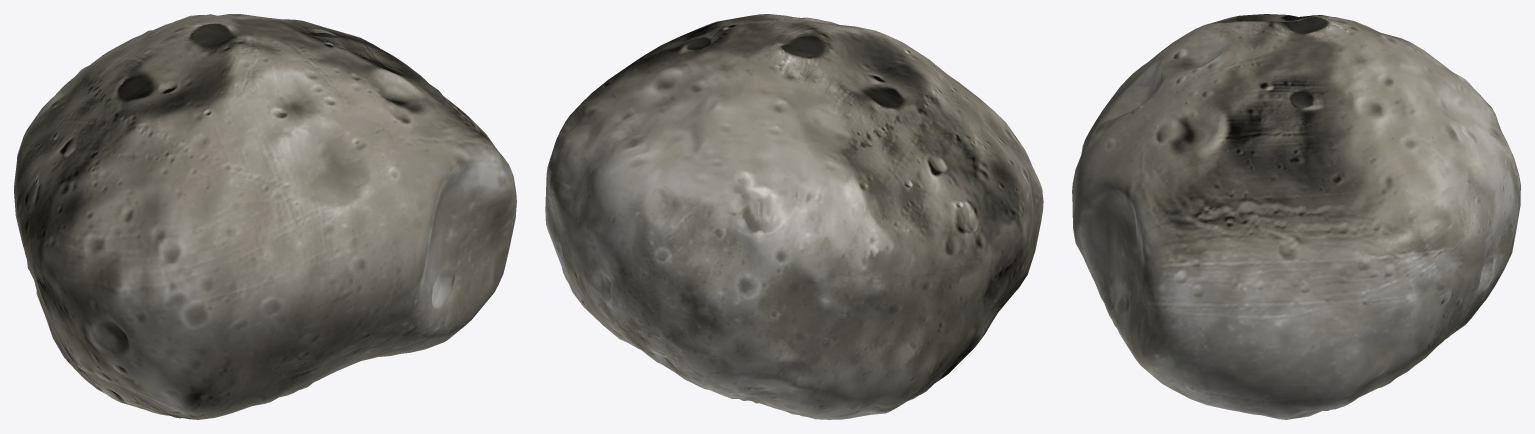
Rendered from phobos-low.glb.
The picture shows the model from 3 angles, left to right: view 1: azimuth 30°, elevation 25°; view 2: azimuth 150°, elevation 25°; view 3: azimuth 270°, elevation 25°; orthographic projection. The views are drawn at different scales.
Parts seen in each view (by area): view 1: phobos; view 2: phobos; view 3: phobos.
Boxes of the visible parts, left/top/right/bottom form: phobos: left=14, top=14, right=516, bottom=419; phobos: left=545, top=14, right=1043, bottom=419; phobos: left=1072, top=14, right=1520, bottom=419.
Size of the model in its own units: 27.04 by 20.52 by 24.37.
Materials: 1 (1 with a texture image).
